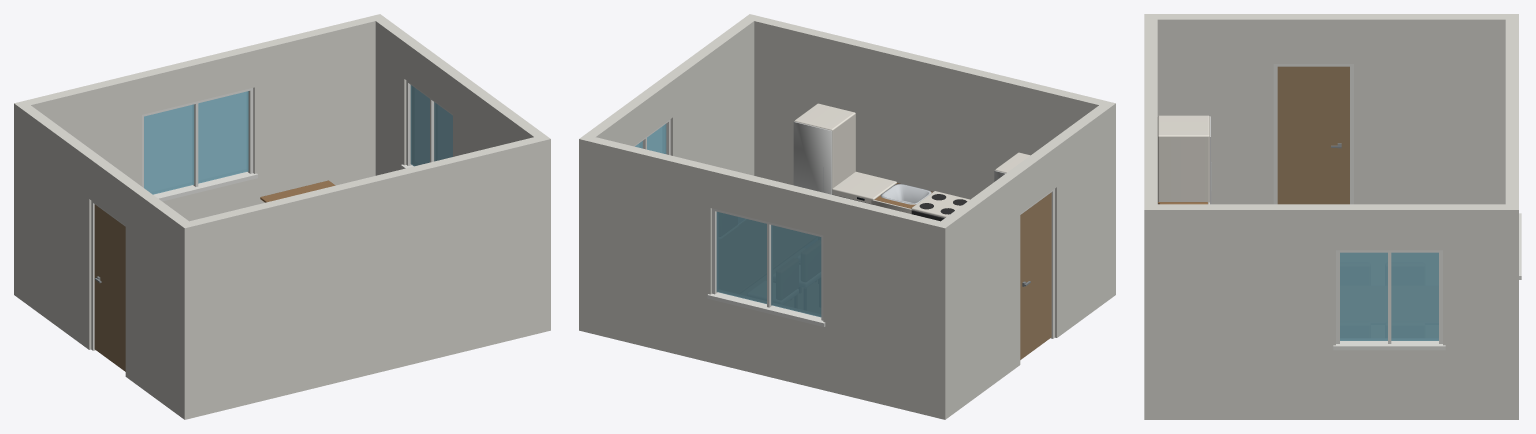
File: oursv11b.glb
3 renders of one model, left to right at view 1: azimuth 30°, elevation 25°; view 2: azimuth 150°, elevation 25°; view 3: azimuth 270°, elevation 25°, orthographic. The views are drawn at different scales.
Parts seen in each view (by area): view 1: wall|scenesmith_093__R00|0, wall|scenesmith_093__R00|1, wall|scenesmith_093__R00|2, wall|scenesmith_093__R00|3, wall|scenesmith_093__R00|1 Window 0 | glazing, wall|scenesmith_093__R00|2 Door 0 | wood leaf, wall|scenesmith_093__R00|3 Window 0 | glazing, wall|scenesmith_093__R00|1 Window 0 | jamb, wall|scenesmith_093__R00|3 Window 0 | jamb, wall|scenesmith_093__R00|2 Door 0 | jamb, Backrest.001; view 2: wall|scenesmith_093__R00|1, wall|scenesmith_093__R00|0, wall|scenesmith_093__R00|2, wall|scenesmith_093__R00|3, wall|scenesmith_093__R00|1 Window 0 | glazing, Appliance enclosure, wall|scenesmith_093__R00|2 Door 0 | wood leaf, Freezer drawer, wall|scenesmith_093__R00|1 Window 0 | jamb, Basin, wall|scenesmith_093__R00|2 Door 0 | jamb, Appliance door; view 3: wall|scenesmith_093__R00|3, wall|scenesmith_093__R00|2, wall|scenesmith_093__R00|2 Door 0 | wood leaf, wall|scenesmith_093__R00|3 Window 0 | glazing, wall|scenesmith_093__R00|0, wall|scenesmith_093__R00|1, Appliance enclosure, wall|scenesmith_093__R00|3 Window 0 | jamb, wall|scenesmith_093__R00|2 Door 0 | jamb.
Part boxes in pixels (box(x1,y1,x2,y2)): wall|scenesmith_093__R00|0: box(184, 134, 550, 419); wall|scenesmith_093__R00|1: box(25, 16, 375, 221); wall|scenesmith_093__R00|2: box(14, 101, 195, 419); wall|scenesmith_093__R00|3: box(370, 14, 550, 332); wall|scenesmith_093__R00|1 Window 0 | glazing: box(144, 91, 248, 194); wall|scenesmith_093__R00|2 Door 0 | wood leaf: box(94, 204, 125, 371); wall|scenesmith_093__R00|3 Window 0 | glazing: box(410, 85, 452, 166); wall|scenesmith_093__R00|1 Window 0 | jamb: box(142, 88, 257, 201); wall|scenesmith_093__R00|3 Window 0 | jamb: box(401, 80, 452, 169); wall|scenesmith_093__R00|2 Door 0 | jamb: box(91, 201, 125, 350); Backrest.001: box(260, 180, 335, 202); wall|scenesmith_093__R00|1: box(589, 137, 939, 417); wall|scenesmith_093__R00|0: box(744, 14, 1104, 199); wall|scenesmith_093__R00|2: box(934, 101, 1115, 419); wall|scenesmith_093__R00|3: box(579, 14, 759, 332); wall|scenesmith_093__R00|1 Window 0 | glazing: box(716, 211, 821, 317); Appliance enclosure: box(794, 103, 1030, 217); wall|scenesmith_093__R00|2 Door 0 | wood leaf: box(1020, 192, 1051, 359); Freezer drawer: box(793, 121, 1005, 194); wall|scenesmith_093__R00|1 Window 0 | jamb: box(707, 208, 825, 326); Basin: box(823, 167, 931, 204); wall|scenesmith_093__R00|2 Door 0 | jamb: box(1020, 189, 1054, 338); Appliance door: box(832, 194, 967, 221); wall|scenesmith_093__R00|3: box(1144, 204, 1518, 419); wall|scenesmith_093__R00|2: box(1144, 14, 1518, 204); wall|scenesmith_093__R00|2 Door 0 | wood leaf: box(1277, 66, 1349, 204); wall|scenesmith_093__R00|3 Window 0 | glazing: box(1340, 252, 1438, 340); wall|scenesmith_093__R00|0: box(1144, 19, 1157, 419); wall|scenesmith_093__R00|1: box(1505, 19, 1518, 419); Appliance enclosure: box(1157, 115, 1209, 204); wall|scenesmith_093__R00|3 Window 0 | jamb: box(1333, 250, 1445, 350); wall|scenesmith_093__R00|2 Door 0 | jamb: box(1273, 64, 1353, 204).
Size of the model in its own units: 5.23 by 2.61 by 4.23.
